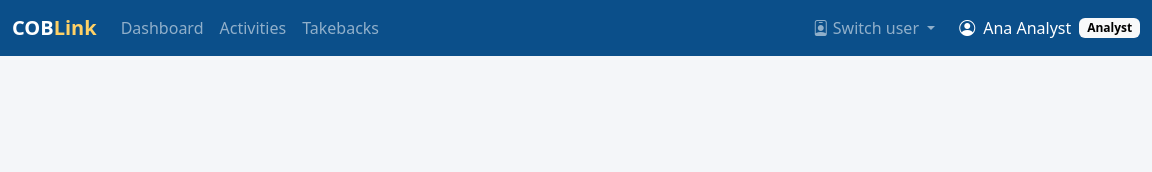
it: NavbarComponent › persona switcher › shows the problem when the users cannot be loaded
Click the button "Switch user" at (874, 28), box top-left (805, 8), bottom-right (943, 48)
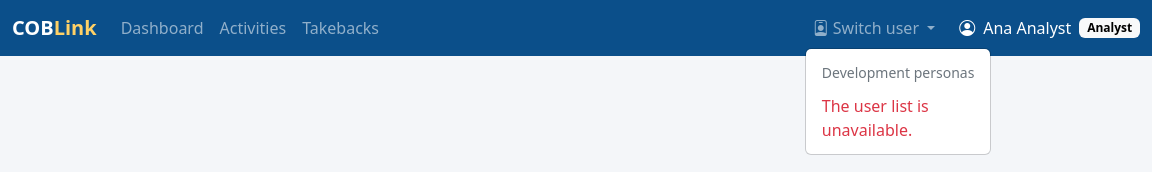
Result: the list with class "dropdown-menu" shows "The user list is unavailable." at top-left (822, 95), bottom-right (929, 141)
